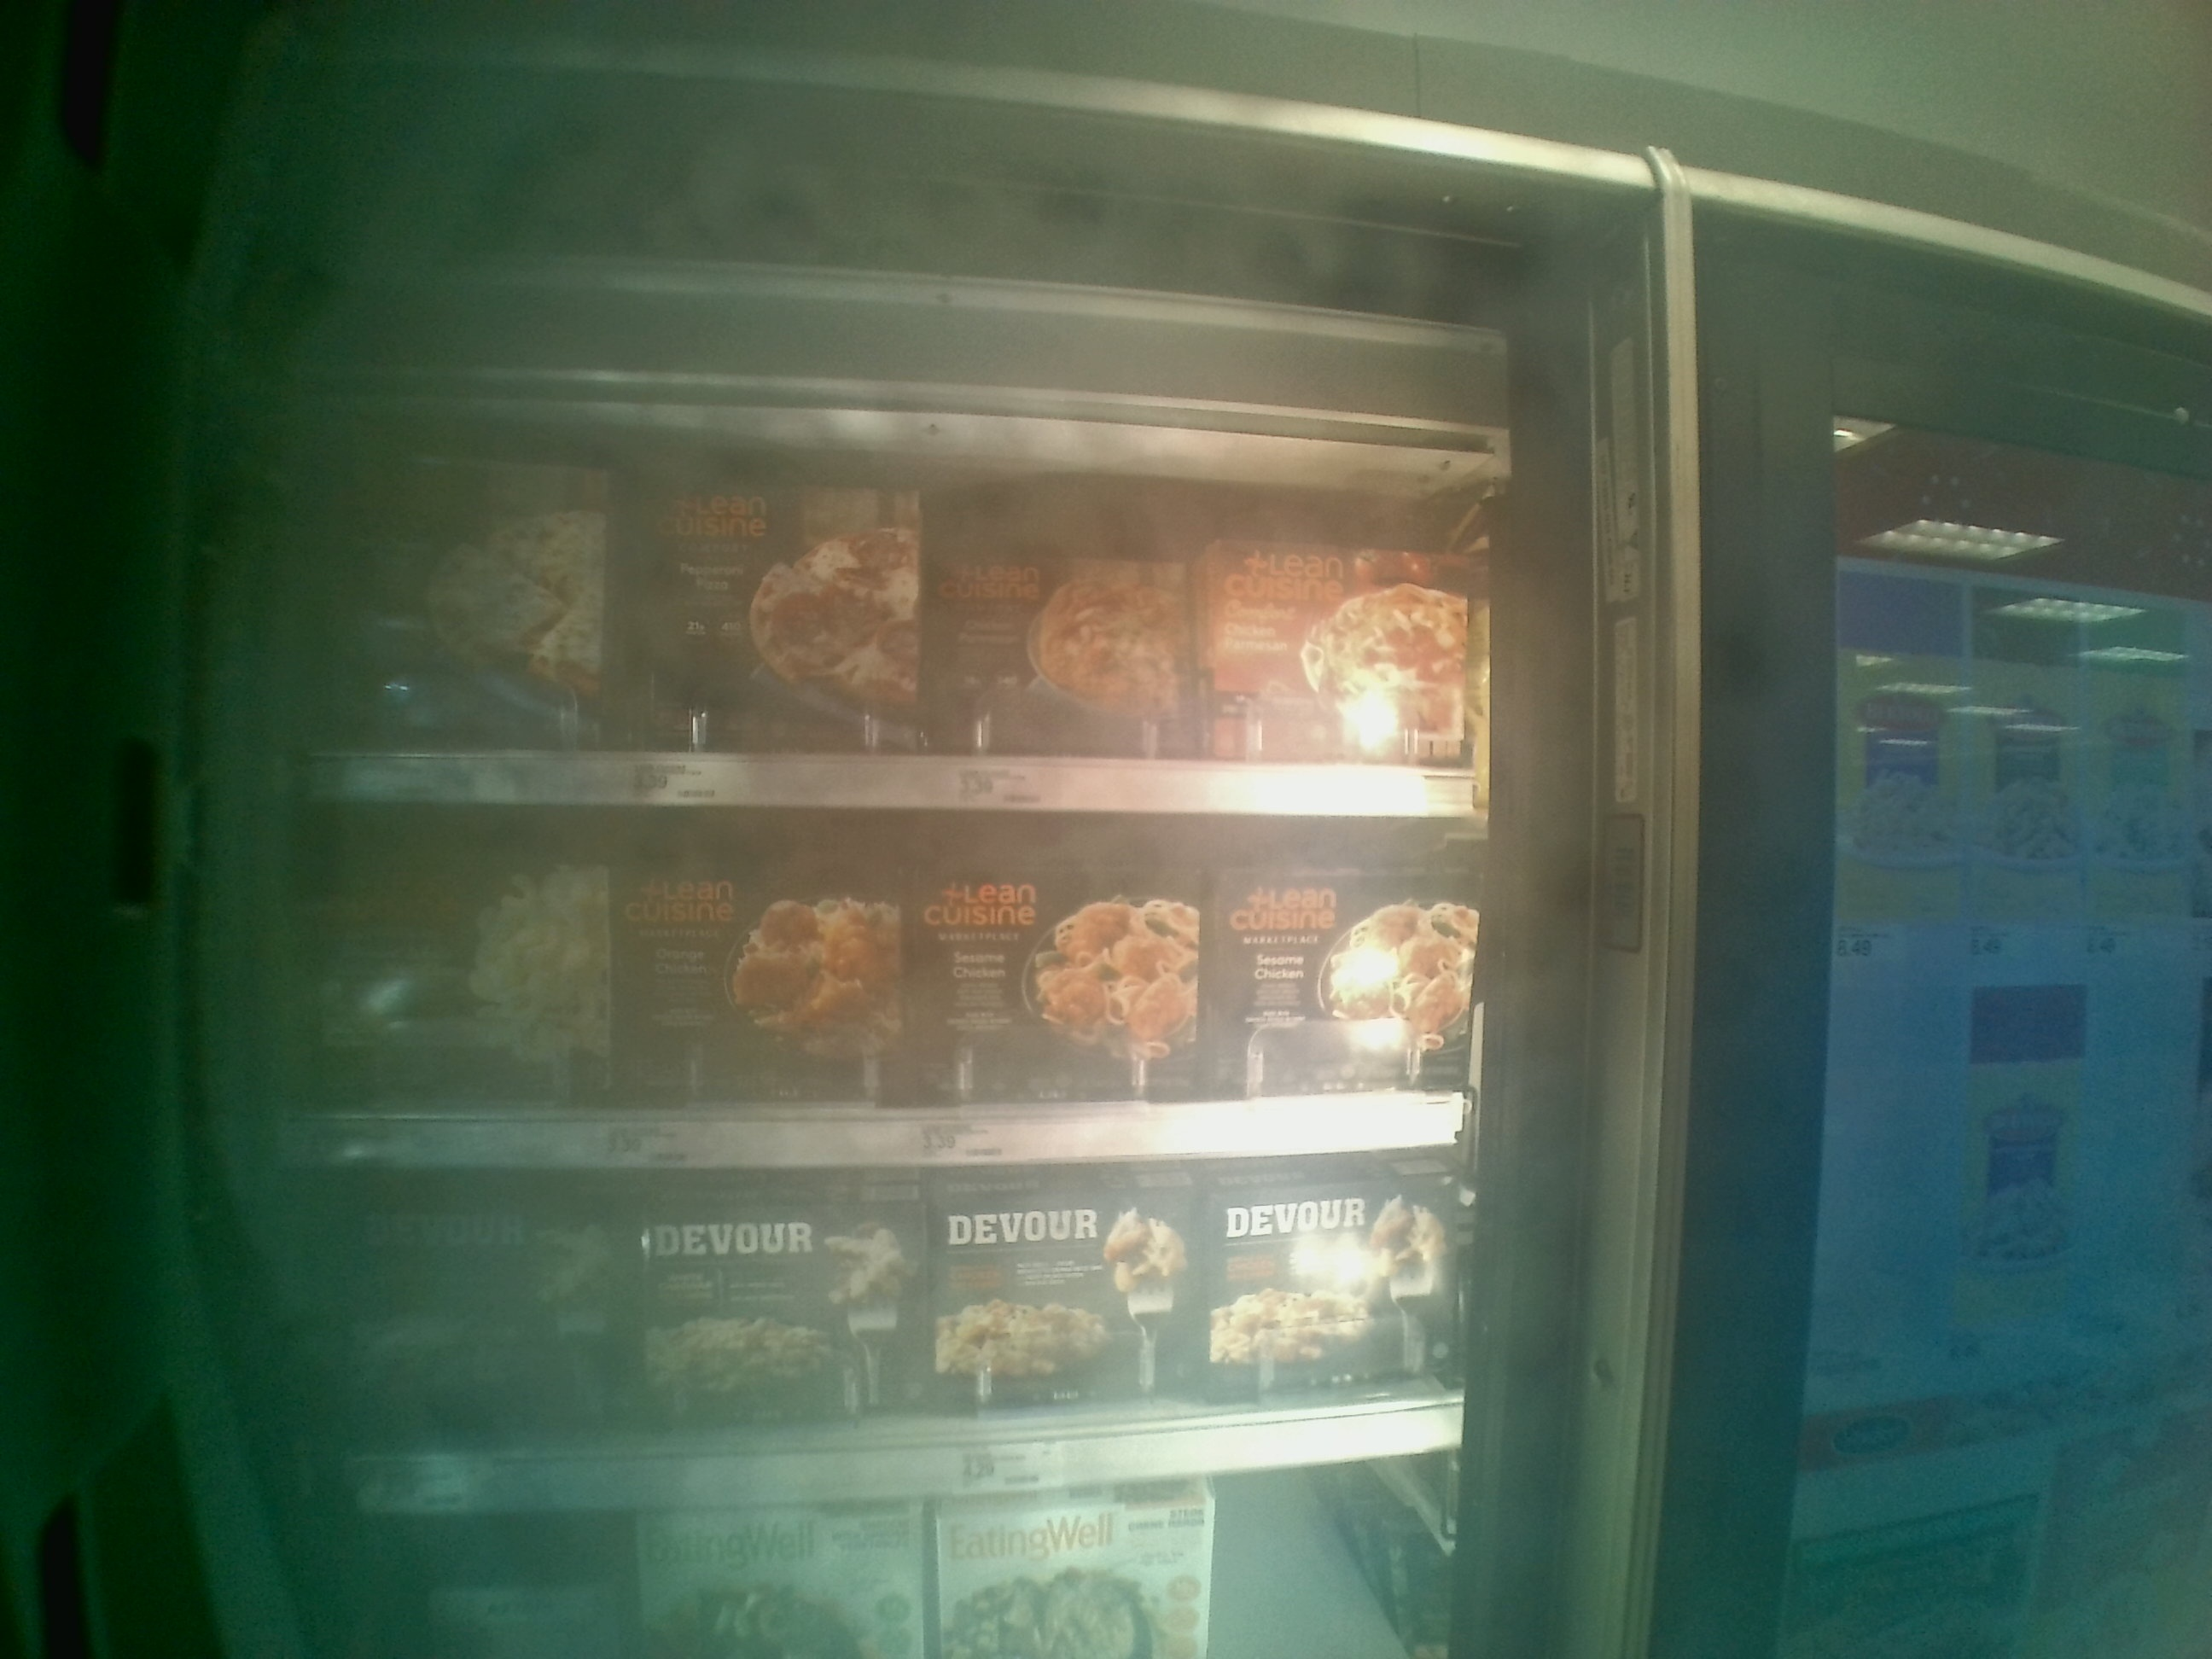shelf: (293, 362, 1505, 817), (296, 798, 1493, 1168), (298, 1148, 1475, 1502)
